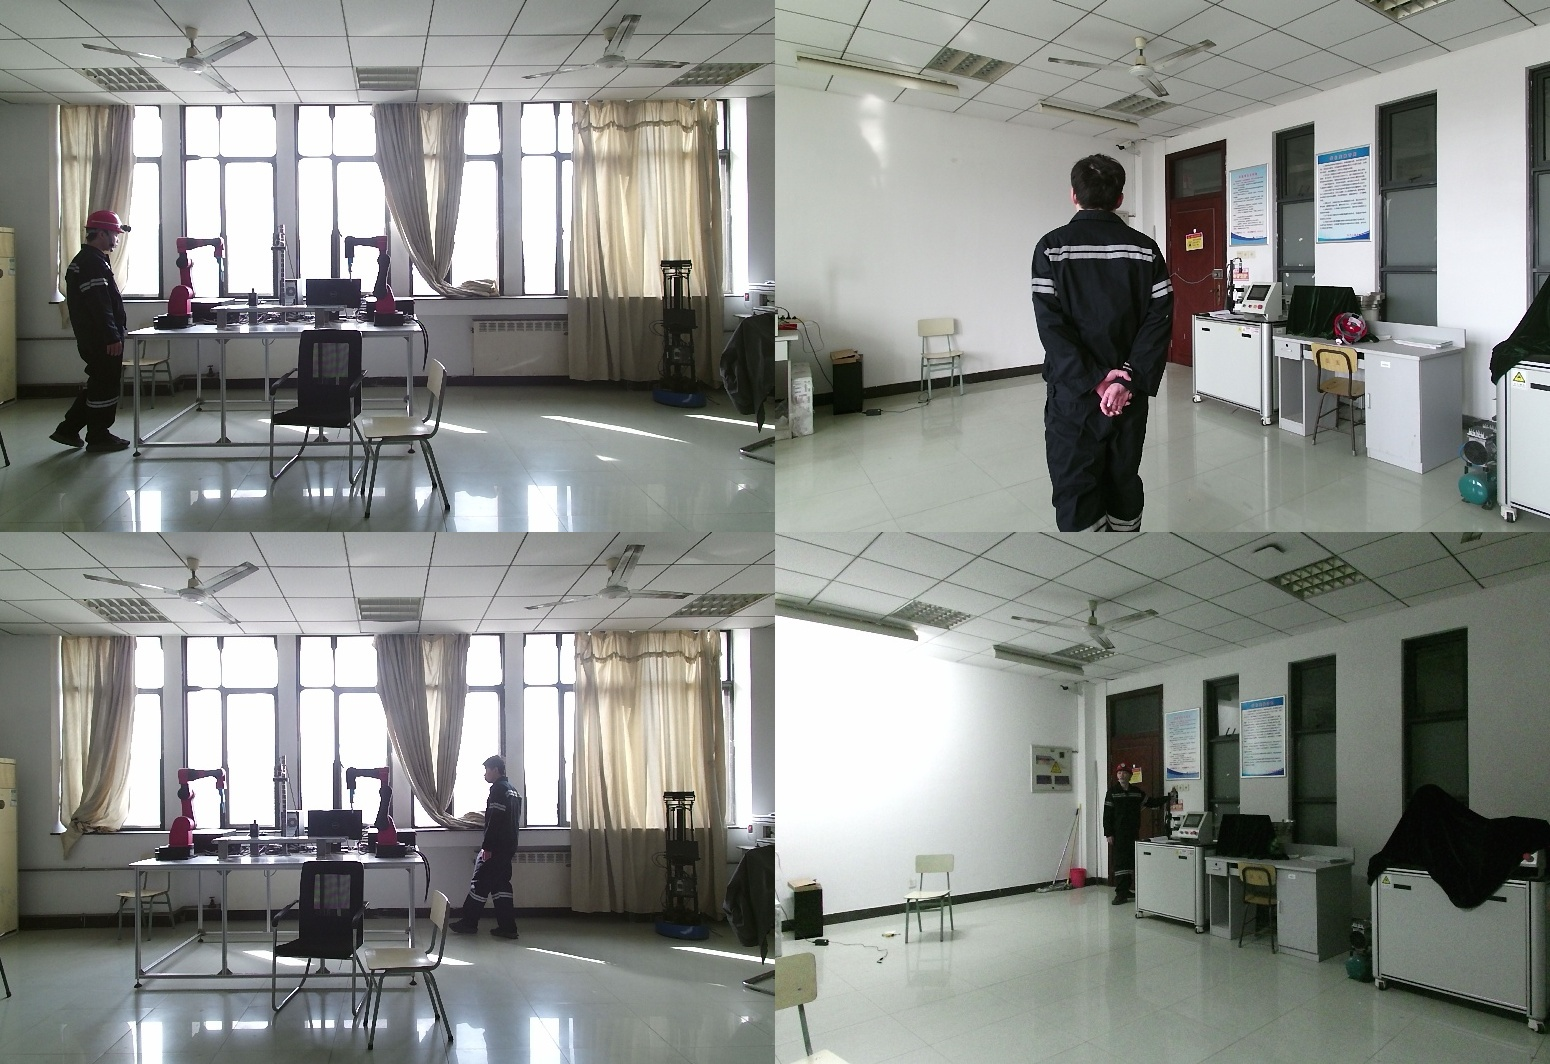person: (1022, 157, 1190, 532), (49, 211, 138, 456), (455, 758, 525, 943), (1098, 759, 1152, 908)
